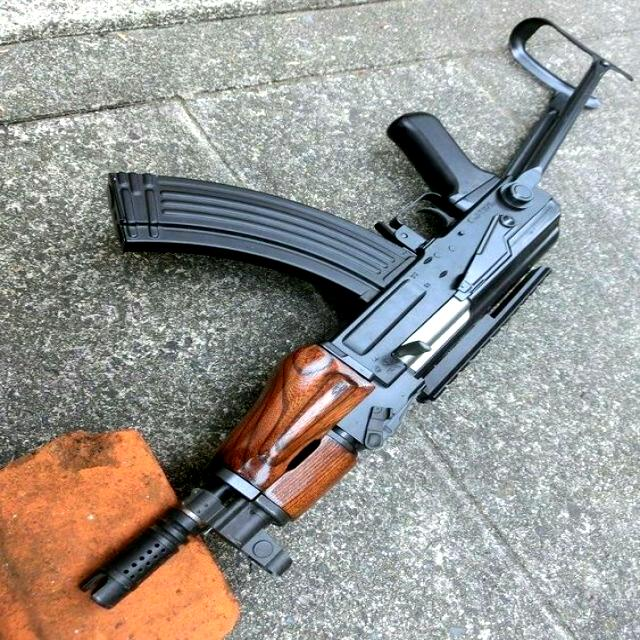ak: (72, 11, 629, 600)
